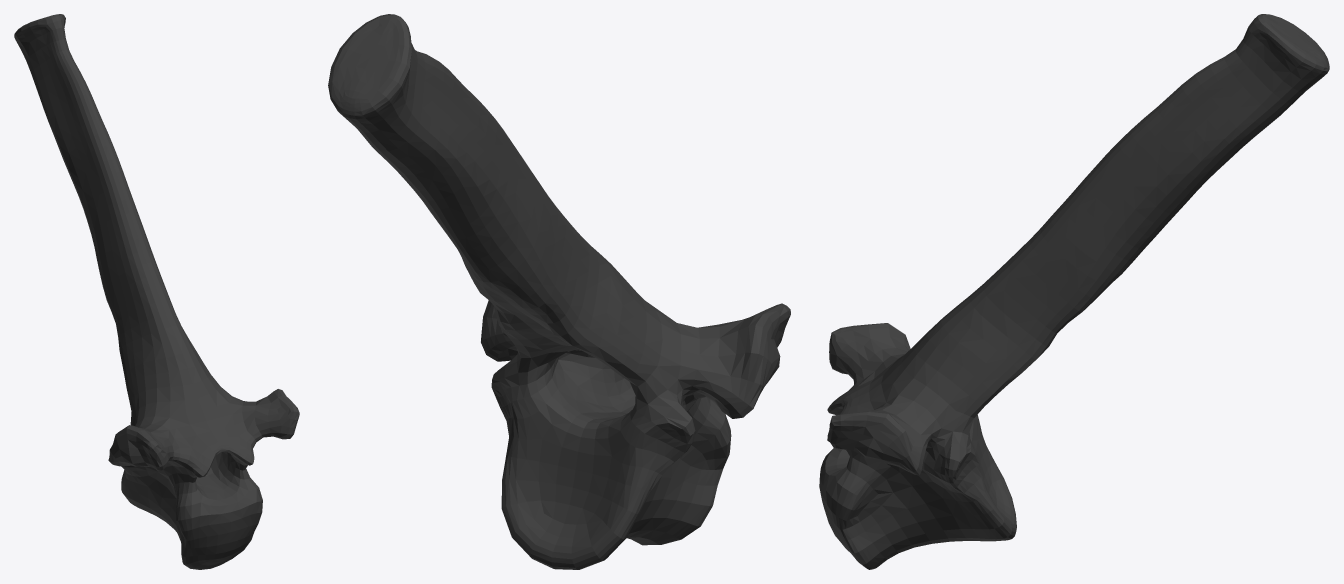
The picture shows the model from 3 angles, left to right: view 1: azimuth 30°, elevation 25°; view 2: azimuth 150°, elevation 25°; view 3: azimuth 270°, elevation 25°; orthographic projection. The views are drawn at different scales.
Visible parts, largest first — view 1: b_T6_LO; view 2: b_T6_LO; view 3: b_T6_LO.
Boxes of the visible parts, x1,y1,x2,y2 form: b_T6_LO: (14, 14, 299, 569); b_T6_LO: (328, 14, 790, 569); b_T6_LO: (819, 14, 1329, 569).
Size of the model in its own units: 0.000897 by 0.0022 by 0.00185.
1 material, 1 textured.
